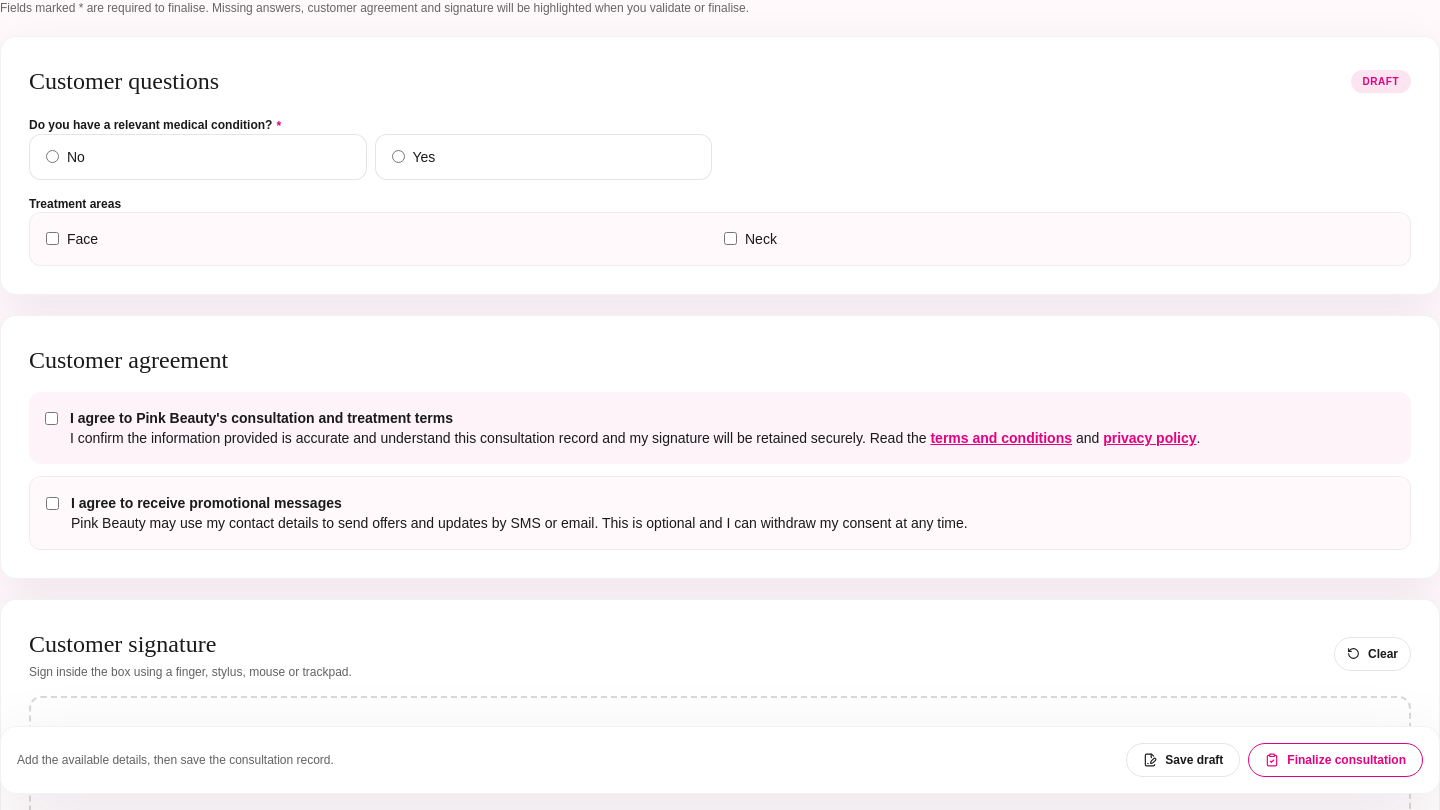
Test case: consultation validation guidance › lists all blockers, highlights controls and links to the matching field
Click the button "Finalize consultation" at (1336, 760), box [1248,743,1423,777]
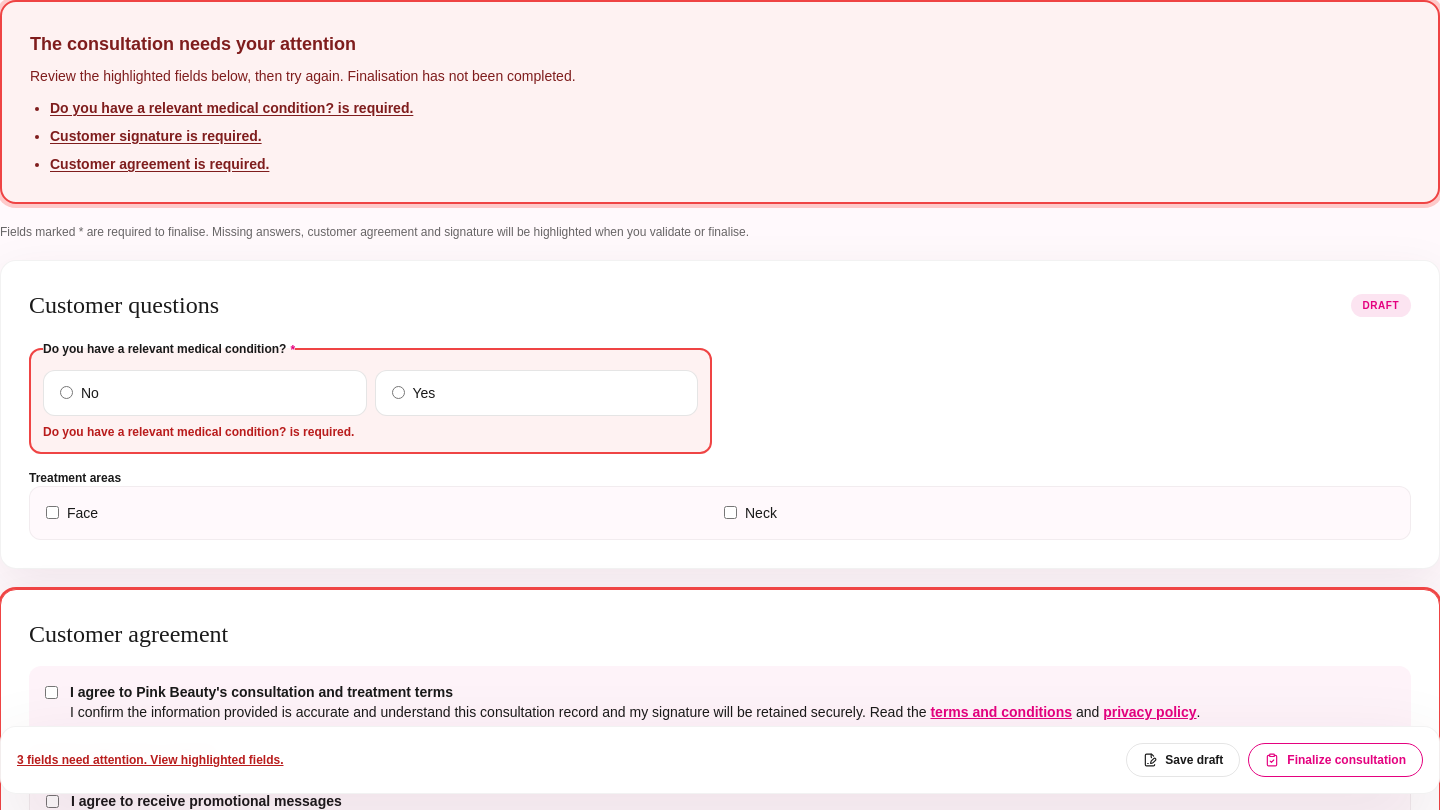
Result: the message shows "Do you have a relevant medical condition? is required."
Result: the message shows "Customer signature is required." at [50,126,262,146]
Result: the message shows "Customer agreement is required." at [50,154,269,174]
Click the button "Do you have a relevant medical condition? is required." at (232, 108), box [50,98,413,118]
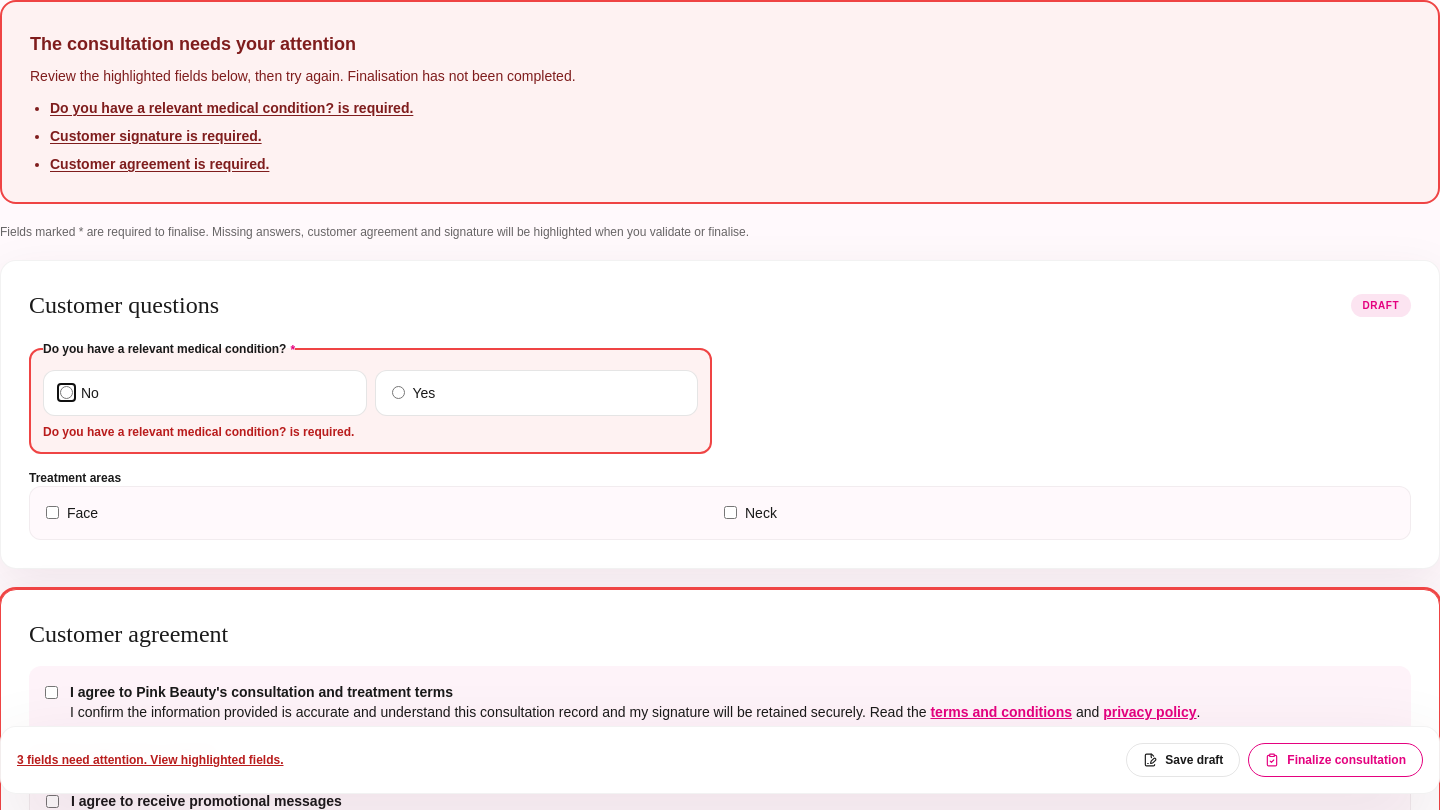
Click the radio button labelled "No" at (66, 393), box [60,386,73,399]
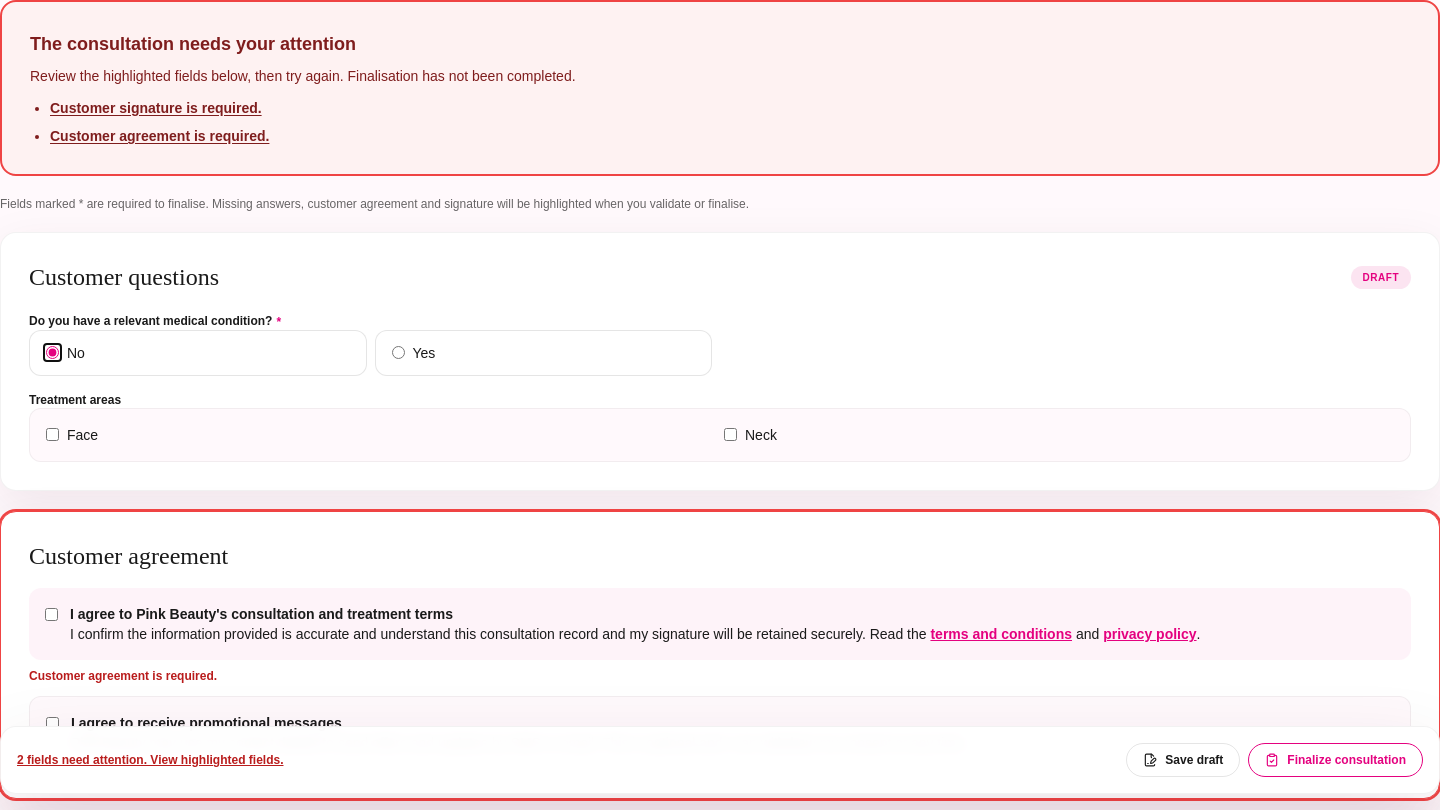
Result: the message shows "Customer signature is required." at [50,98,262,118]
Result: the button "Do you have a relevant medical condition? is required." no longer shows "Do you have a relevant medical condition? is required."
